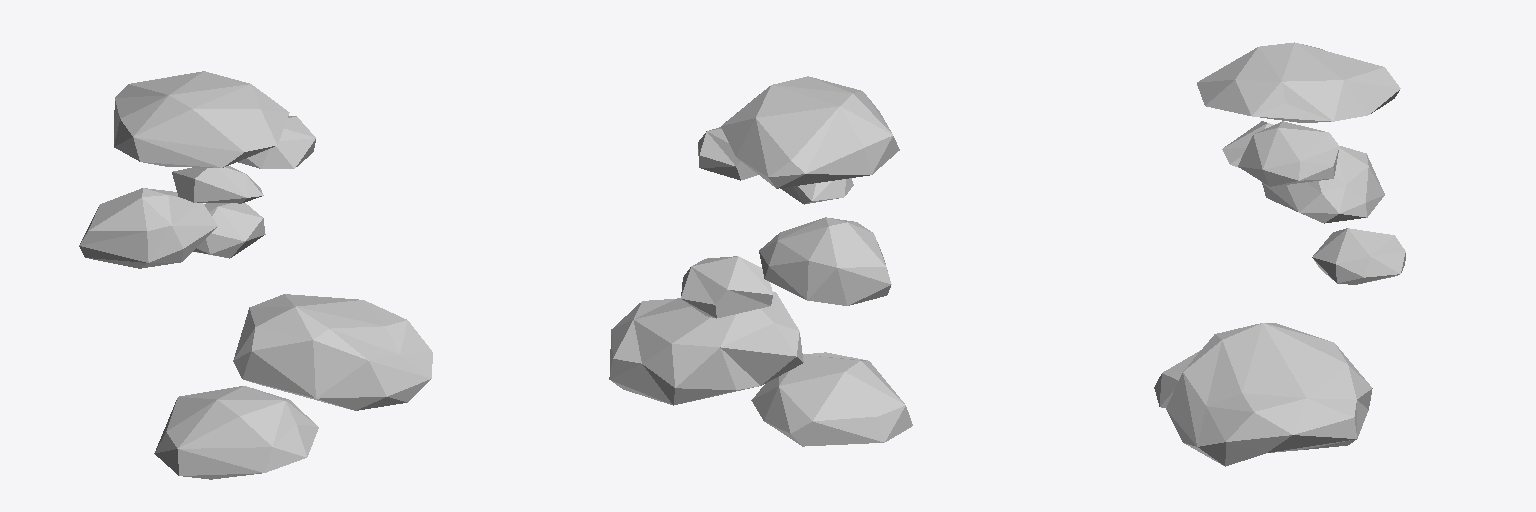
Rendered from tree_open_up.obj.
The picture shows the model from 3 angles: view 1: azimuth 30°, elevation 25°; view 2: azimuth 150°, elevation 25°; view 3: azimuth 270°, elevation 25°; orthographic projection.
Parts seen in each view (by area): view 1: leaves_Icosphere; view 2: leaves_Icosphere; view 3: leaves_Icosphere.
Boxes of the visible parts, <box> form: leaves_Icosphere: <box>79,71,432,479</box>; leaves_Icosphere: <box>609,76,912,446</box>; leaves_Icosphere: <box>1154,42,1405,466</box>.
Size of the model in its own units: 4.75 by 5.28 by 3.45.